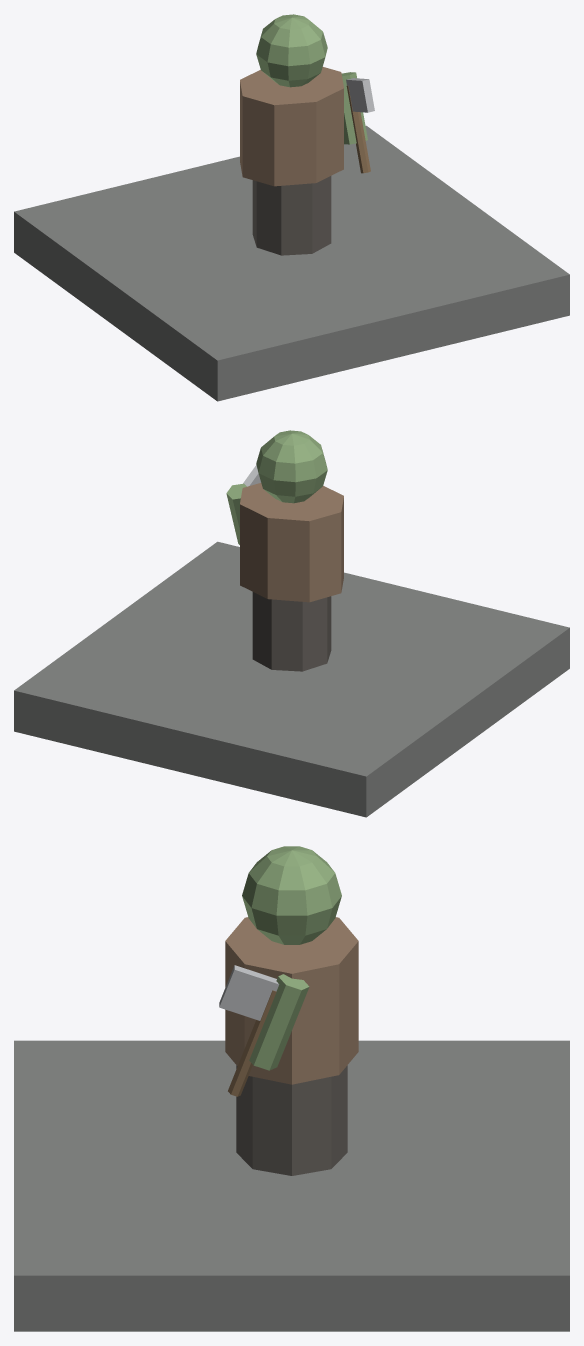
The model's file is orc_axe.glb.
3 views of the same model, one above another, from view 1: azimuth 30°, elevation 25°; view 2: azimuth 150°, elevation 25°; view 3: azimuth 270°, elevation 25° (orthographic). The views are drawn at different scales.
Parts seen in each view (by area): view 1: Base, TurretMesh, ArmMesh; view 2: Base, TurretMesh, ArmMesh; view 3: Base, TurretMesh, ArmMesh.
Boxes of the visible parts, x1,y1,x2,y2 form: Base: [14, 125, 569, 401]; TurretMesh: [240, 14, 343, 255]; ArmMesh: [341, 72, 374, 173]; Base: [14, 541, 569, 817]; TurretMesh: [240, 430, 343, 671]; ArmMesh: [226, 465, 260, 544]; Base: [14, 1040, 569, 1331]; TurretMesh: [225, 846, 358, 1175]; ArmMesh: [219, 965, 309, 1096].
Size of the model in its own units: 1.8 by 1.3 by 1.8.
